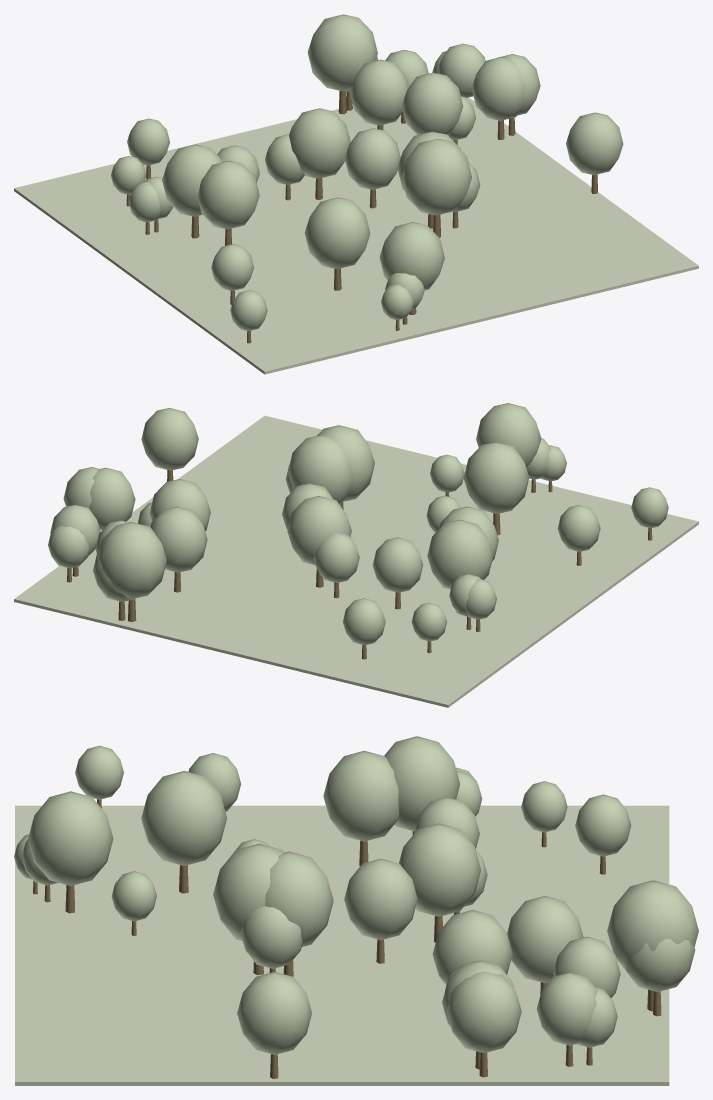
3 views of the same model, one above another, from view 1: azimuth 30°, elevation 25°; view 2: azimuth 150°, elevation 25°; view 3: azimuth 270°, elevation 25° (orthographic). The views are drawn at different scales.
Parts seen in each view (by area): view 1: terrain, lod-near-7, lod-near-0, lod-near-3, lod-near-15, lod-near-22, lod-near-9, lod-near-12, lod-near-13, lod-near-21, lod-near-23, lod-near-16 (+15 smaller); view 2: terrain, lod-near-0, lod-near-3, lod-near-18, lod-near-17, lod-near-21, lod-near-15, lod-near-13, lod-near-9, lod-near-25, lod-near-23, lod-near-7 (+18 smaller); view 3: terrain, lod-near-3, lod-near-9, lod-near-15, lod-near-22, lod-near-0, lod-near-21, lod-near-24, lod-near-16, lod-near-13, lod-near-18, lod-near-17 (+16 smaller).
Part boxes in pixels (box(x1,y1,x2,y2)): terrain: box(14, 97, 698, 374); lod-near-7: box(401, 138, 471, 215); lod-near-0: box(307, 14, 377, 91); lod-near-3: box(304, 197, 370, 269); lod-near-15: box(289, 108, 350, 178); lod-near-22: box(198, 161, 259, 229); lod-near-9: box(379, 222, 444, 290); lod-near-12: box(402, 72, 463, 135); lod-near-13: box(350, 59, 408, 125); lod-near-21: box(566, 112, 623, 175); lod-near-23: box(471, 57, 525, 120); lod-near-16: box(344, 128, 400, 189); terrain: box(14, 415, 698, 707); lod-near-0: box(97, 522, 166, 598); lod-near-3: box(463, 442, 529, 513); lod-near-18: box(427, 519, 493, 589); lod-near-17: box(287, 435, 351, 504); lod-near-21: box(141, 408, 198, 470); lod-near-15: box(287, 496, 351, 565); lod-near-13: box(150, 506, 207, 572); lod-near-9: box(476, 403, 541, 467); lod-near-25: box(372, 537, 423, 592); lod-near-23: box(89, 467, 135, 530); lod-near-7: box(317, 425, 374, 501); terrain: box(15, 805, 669, 1085); lod-near-3: box(141, 771, 227, 865); lod-near-9: box(28, 791, 113, 885); lod-near-15: box(399, 823, 481, 916); lod-near-22: box(323, 750, 399, 841); lod-near-0: box(607, 880, 698, 968); lod-near-21: box(237, 971, 311, 1054); lod-near-24: box(446, 971, 521, 1053); lod-near-16: box(344, 858, 417, 939); lod-near-13: box(507, 896, 583, 983); lod-near-18: box(384, 736, 460, 831); lod-near-17: box(264, 851, 333, 946).
Bounding box in the file's own units: 33.48 × 7.12 × 33.51.
